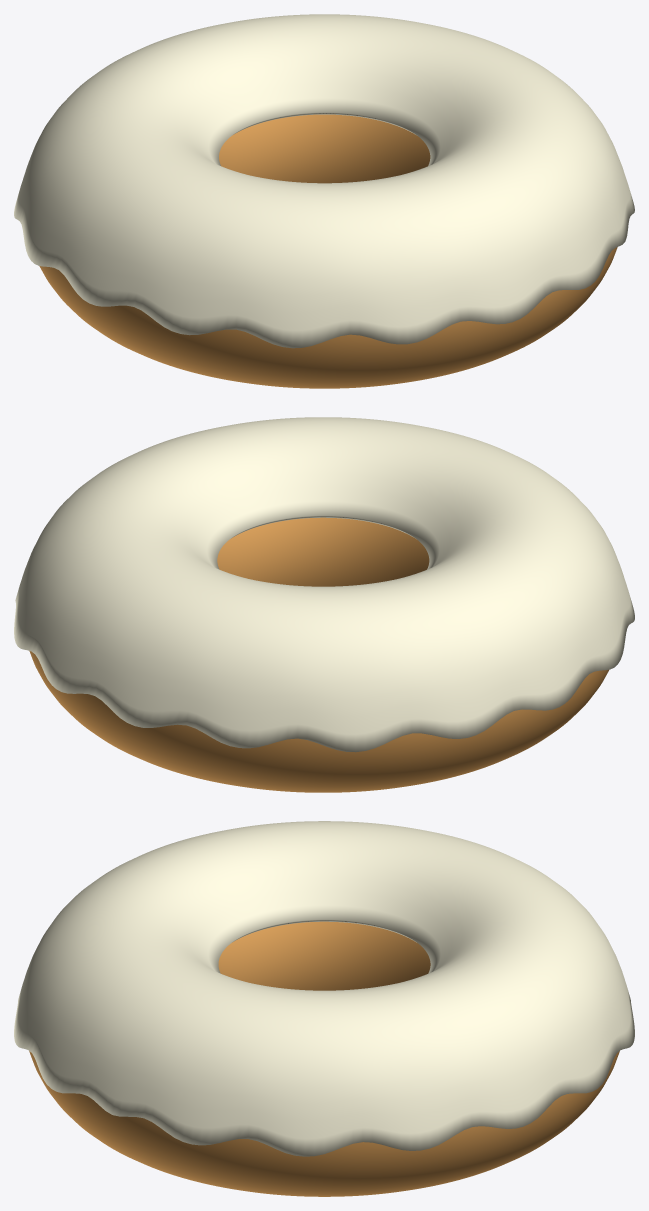
File: VanillaDonut.fbx
The picture shows the model from 3 angles, top to bottom: view 1: azimuth 30°, elevation 25°; view 2: azimuth 150°, elevation 25°; view 3: azimuth 270°, elevation 25°; orthographic projection.
Parts seen in each view (by area): view 1: VanillaDonut-Glaze, VanillaDonut; view 2: VanillaDonut-Glaze, VanillaDonut; view 3: VanillaDonut-Glaze, VanillaDonut.
Part boxes in pixels (box(x1,y1,x2,y2)): VanillaDonut-Glaze: box(14, 14, 634, 348); VanillaDonut: box(39, 114, 617, 388); VanillaDonut-Glaze: box(14, 417, 634, 752); VanillaDonut: box(29, 517, 608, 792); VanillaDonut-Glaze: box(14, 821, 634, 1156); VanillaDonut: box(29, 921, 619, 1196).
Bounding box in the file's own units: 96.09 × 32.11 × 96.19.
